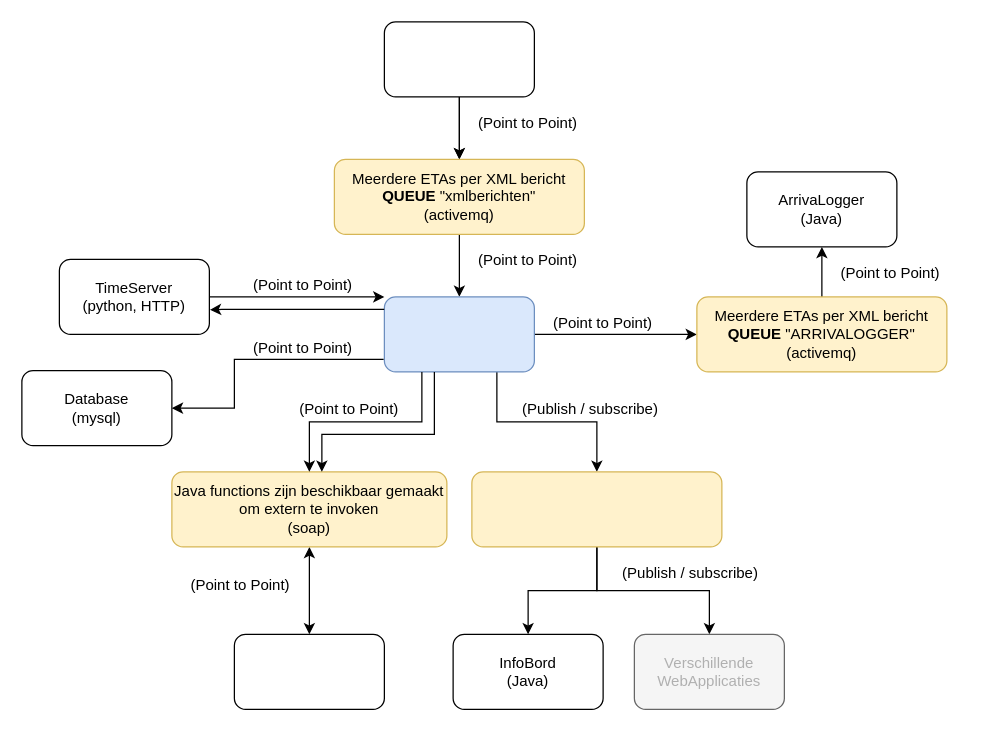
Image size: 1006x731. Some labels were removed from this diagram. Here are the shapes that lost their labels. From the top down, the centre of each, then its label:
point 458,59: Bus Simulator (Java)
point 458,334: AnyPoint Flow
point 596,509: 1 ETA per JSON bericht TOPIC "jsonberichten" (activemq)
point 308,671: Qbuzz website (Java)
